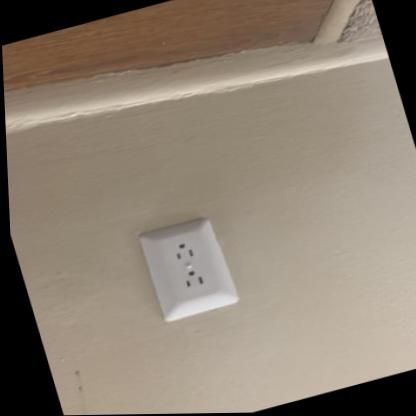OUTLET: (136, 214, 241, 324)
